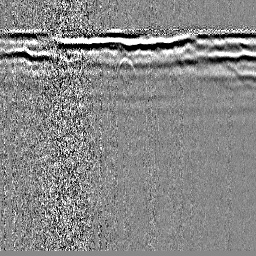cavity: (114, 56, 136, 76)
